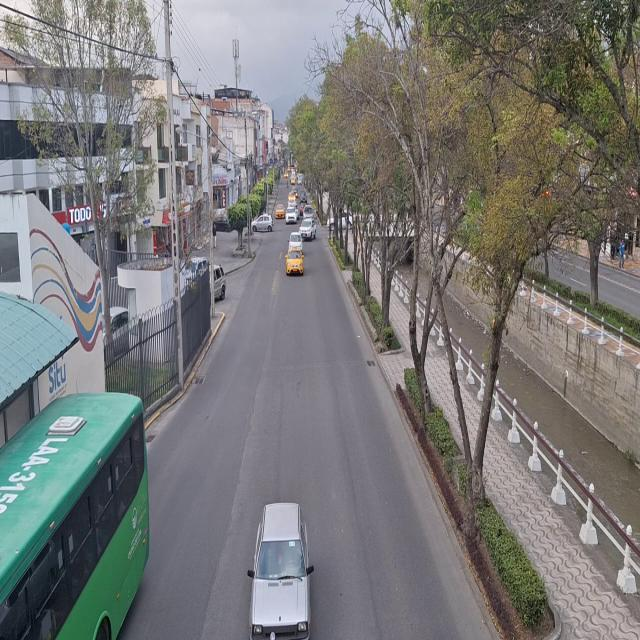BUS: (0, 394, 142, 640)
SED: (252, 507, 307, 640), (286, 249, 302, 276)
SUV: (300, 219, 316, 239)
